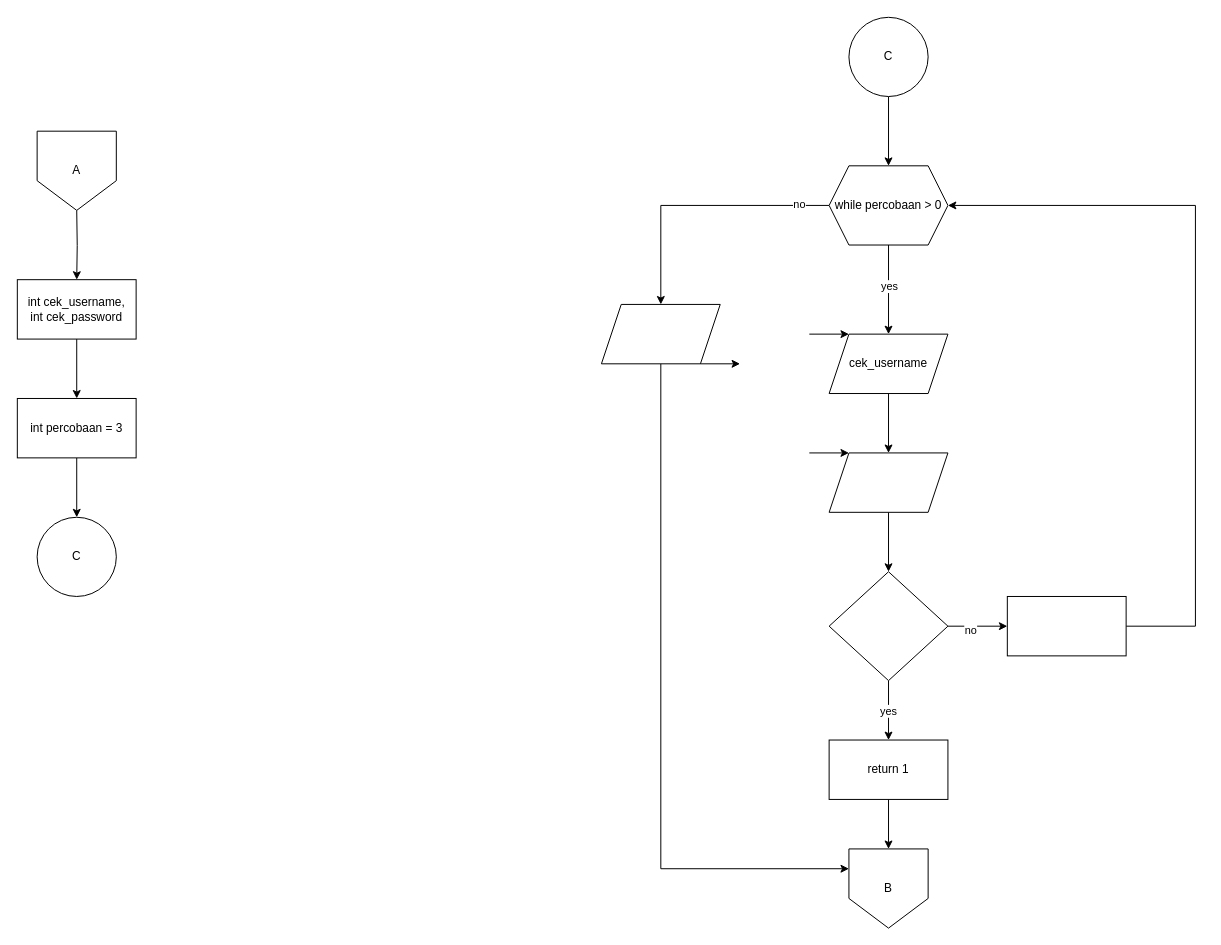
The diagram is 1221 pixels wide and 945 high, and some of its shapes have lost their labels. The shapes that lost their labels are listed below. From the top down, each one's centre as x and y in pixels, then its label:
[660,333]: "login gagal"
[888,482]: cek_password
[888,626]: jika username dan password benar
[1066,625]: percobaan --
